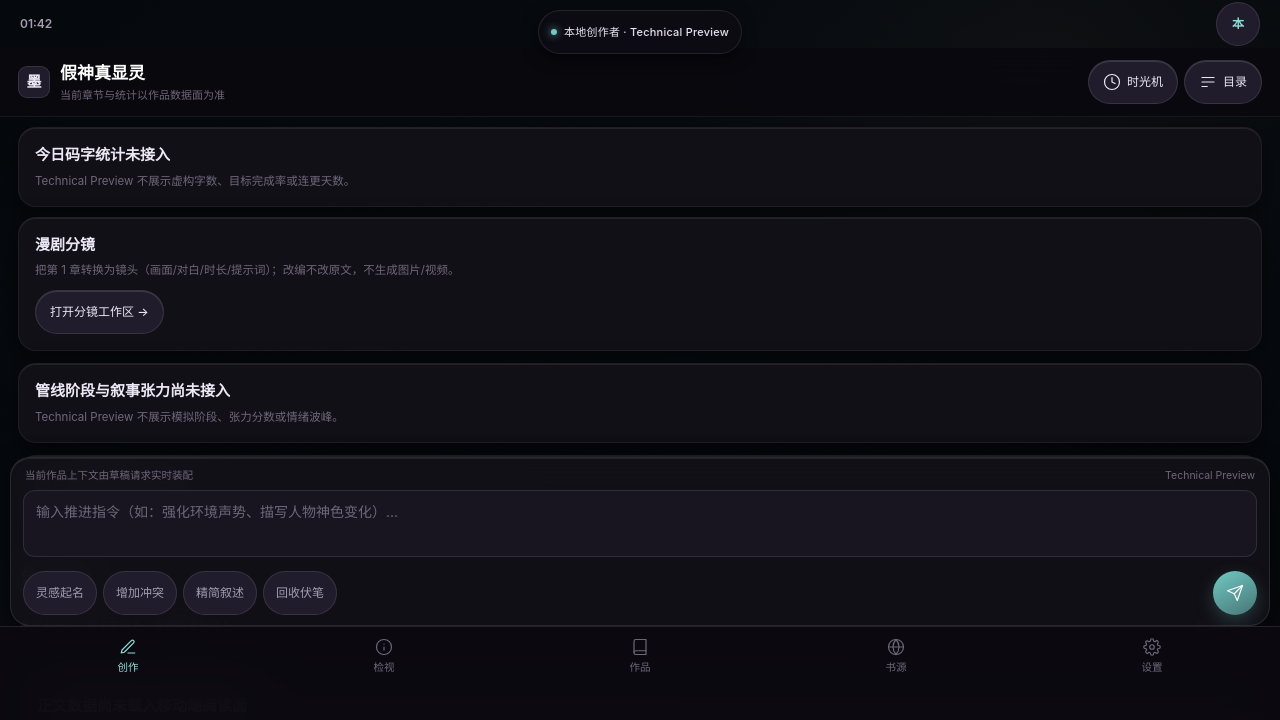
Test case: MobileShell - 移动端 Technical Preview 工作台组件测试 › 点击创作者胶囊显示账号服务未接入
Click the button titled "创作者状态与账户": (640, 32) x1=538 y1=10 x2=742 y2=54
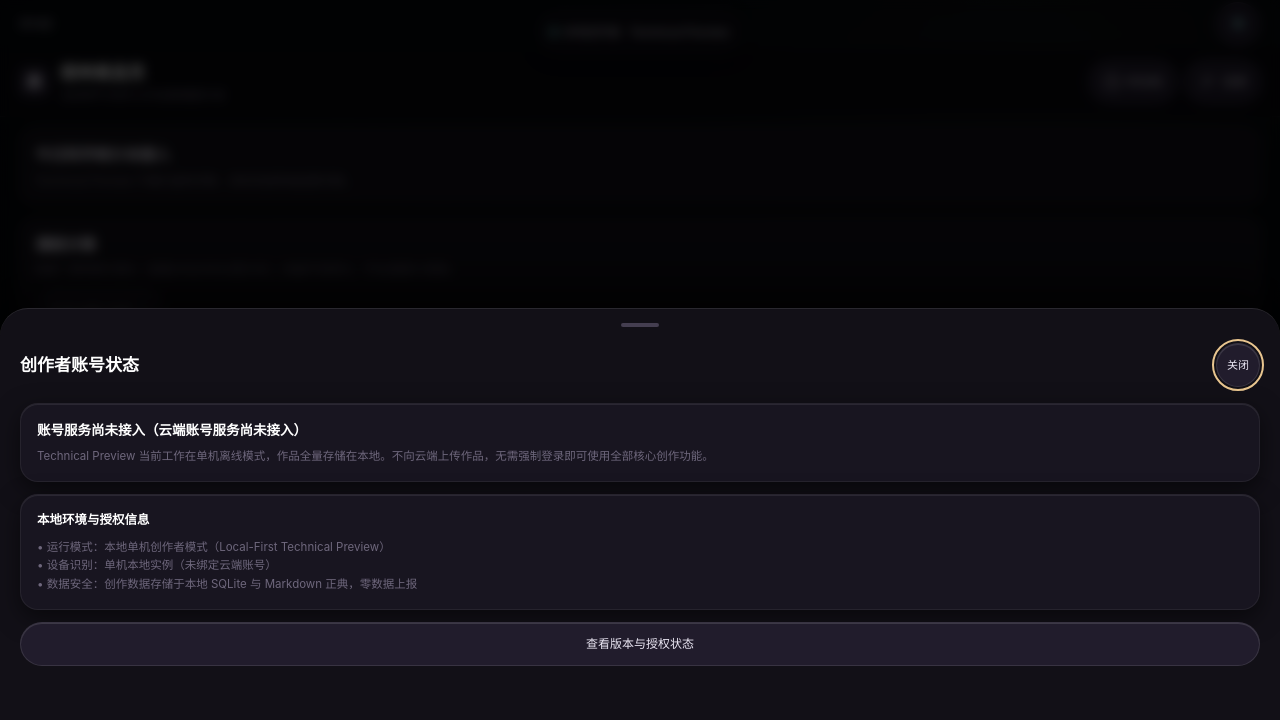
Now the heading "创作者账号状态" is shown, box x1=20 y1=353 x2=139 y2=378
Now the text "账号服务尚未接入（云端账号服务尚未接入）" is shown, box x1=37 y1=422 x2=307 y2=438
